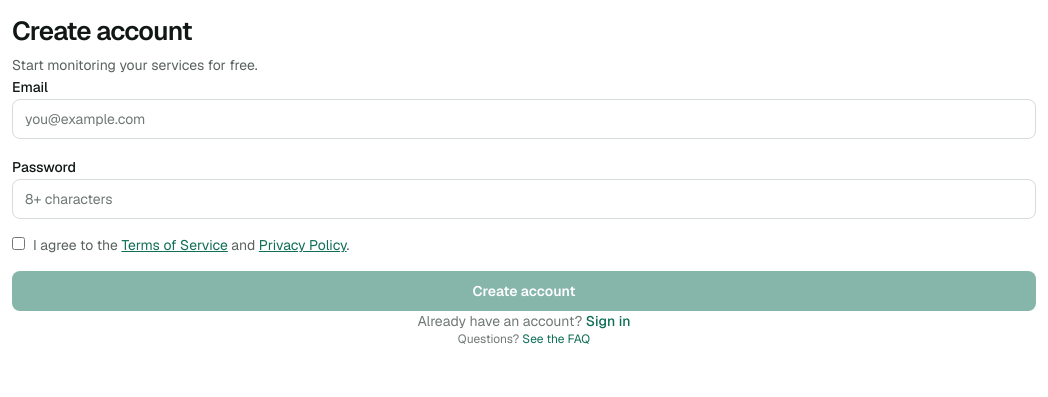
Test: SignUpView › shows a validation error when the password is shorter than 8 characters
In the field with id "email": (524, 119) [12,99,1036,139], type "a@b.com"
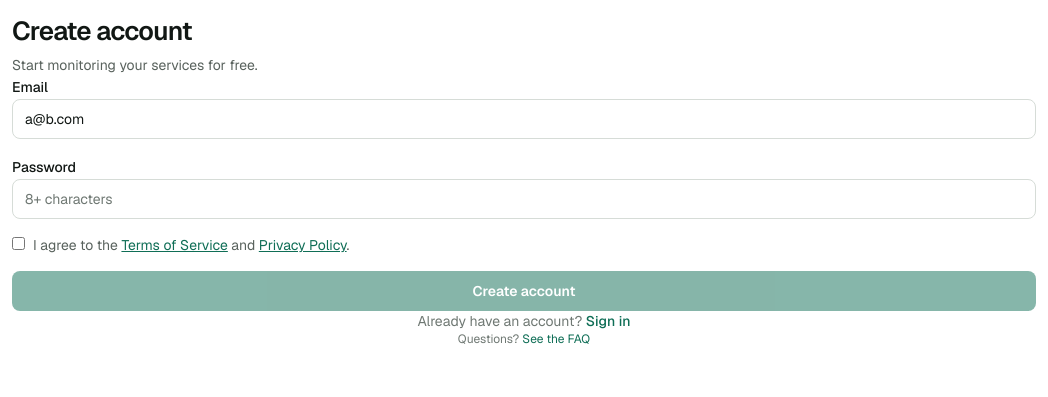
In the password field labelled "Password": (524, 199) [12,179,1036,219], type "short"
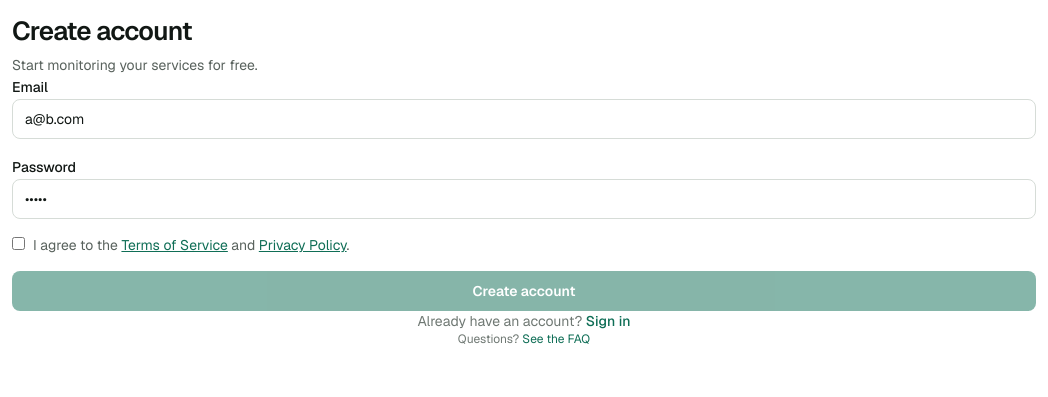
Click the checkbox labelled "I agree to the Terms of Service and Privacy Policy.": click(18, 244) [12,237,25,250]
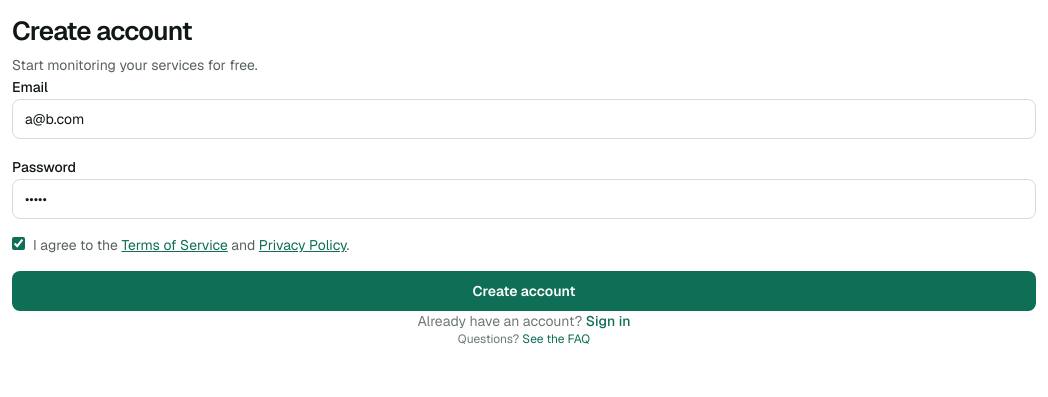
Submit the form, box [12,75,1036,311]
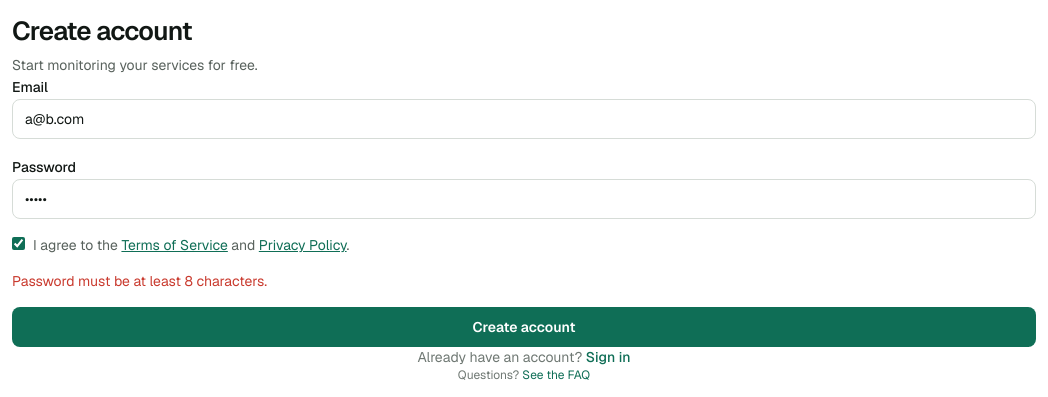
expect the text "Password must be at least 8 characters." is shown: met, box [12,272,267,290]
